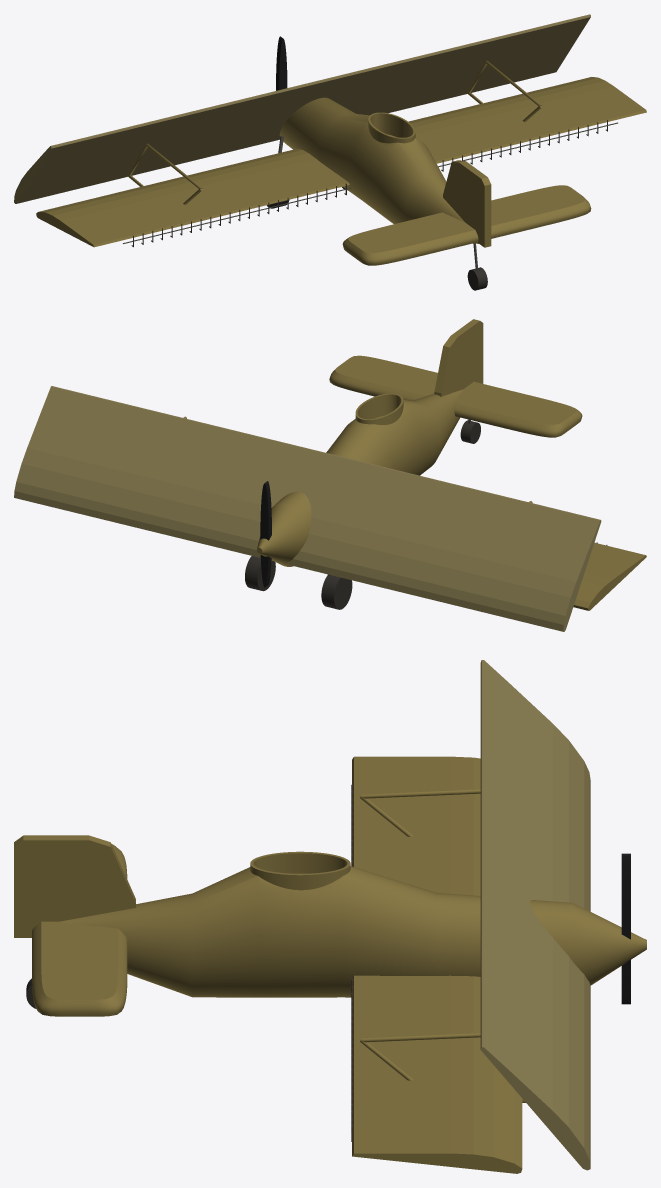
The picture shows the model from 3 angles, top to bottom: view 1: azimuth 30°, elevation 25°; view 2: azimuth 150°, elevation 25°; view 3: azimuth 270°, elevation 25°; orthographic projection. The views are drawn at different scales.
Parts seen in each view (by area): view 1: upper_airfoil, lower_airfoil, body, stabilizer, fin, rear_bar, blades, upper_brace.001, upper_brace; view 2: upper_airfoil, body, stabilizer, fin, lower_airfoil, blades, wheel.001, wheel; view 3: body, lower_airfoil, upper_airfoil, fin, stabilizer, blades, upper_brace, upper_brace.001.
Part boxes in pixels (x1,y1,x2,y2): upper_airfoil: (14, 14, 590, 203); lower_airfoil: (36, 77, 646, 247); body: (279, 97, 478, 243); stabilizer: (342, 185, 591, 265); fin: (443, 160, 491, 247); rear_bar: (123, 122, 617, 243); blades: (276, 36, 287, 90); upper_brace.001: (127, 143, 202, 204); upper_brace: (467, 60, 542, 121); upper_airfoil: (14, 386, 601, 631); body: (257, 389, 463, 566); stabilizer: (329, 355, 582, 437); fin: (434, 319, 483, 396); lower_airfoil: (573, 542, 646, 610); blades: (260, 481, 271, 587); wheel.001: (321, 575, 352, 609); wheel: (245, 556, 275, 591); body: (59, 851, 646, 997); lower_airfoil: (352, 756, 522, 1173); upper_airfoil: (480, 660, 590, 1170); fin: (14, 835, 135, 937); stabilizer: (32, 844, 127, 1016); blades: (621, 853, 630, 1004); upper_brace: (360, 1033, 525, 1102); upper_brace.001: (360, 789, 480, 836).
Bounding box in the file's own units: 10 × 2.53 × 6.74.
